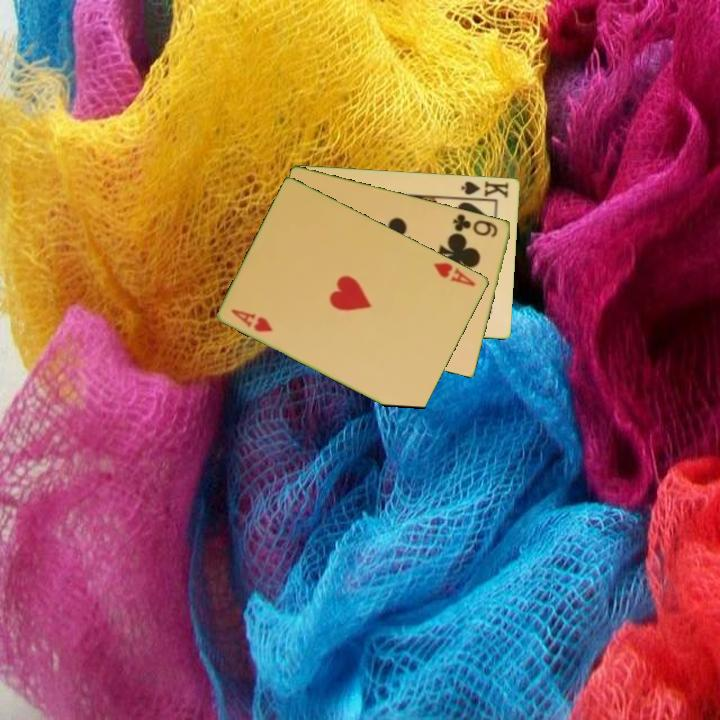6c: (450, 210, 501, 240)
Ah: (431, 258, 479, 289), (228, 305, 276, 335)
Ks: (458, 177, 512, 201)
